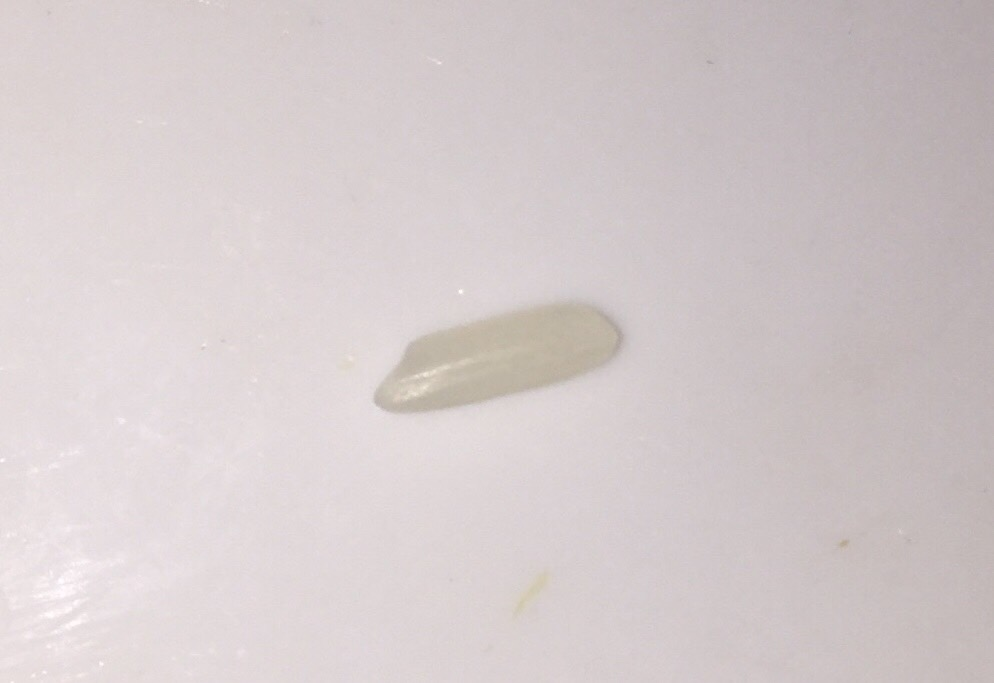Gao Ngoc Troi: (364, 297, 625, 429)
